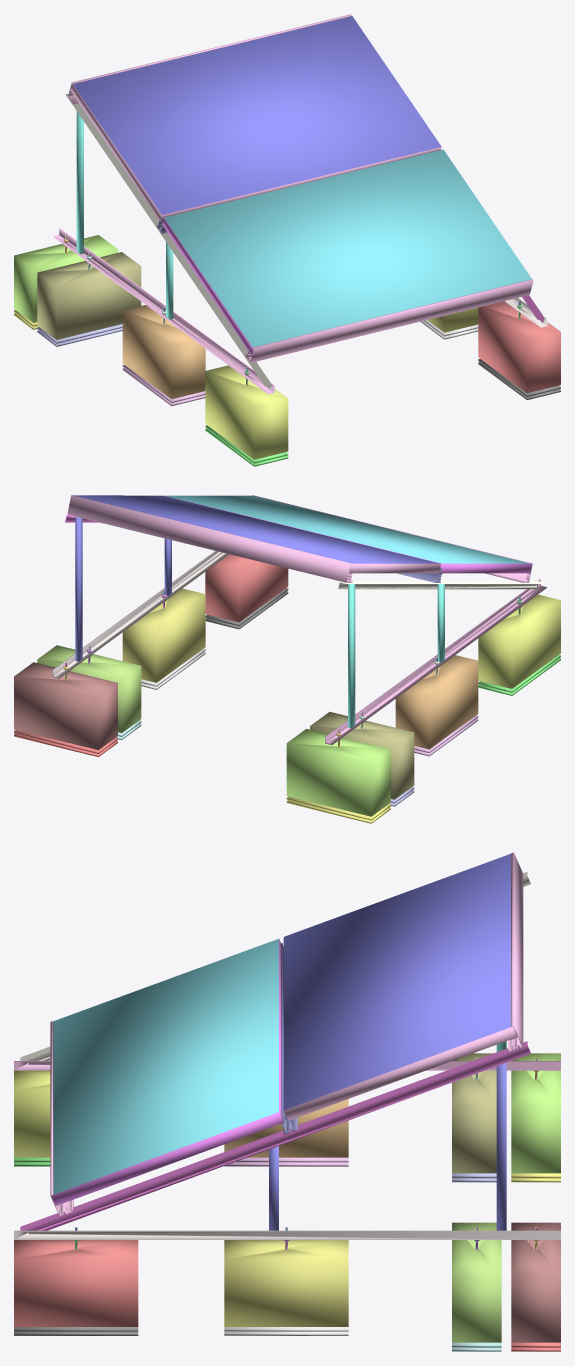
File: rooftop_solar.fbx
3 renders of one model, top to bottom at view 1: azimuth 30°, elevation 25°; view 2: azimuth 150°, elevation 25°; view 3: azimuth 270°, elevation 25°, orthographic. The views are drawn at different scales.
Parts seen in each view (by area): view 1: rooftop_solar; view 2: rooftop_solar; view 3: rooftop_solar.
Part boxes in pixels (x1,y1,x2,y2): rooftop_solar: (14, 14, 560, 466); rooftop_solar: (14, 495, 560, 823); rooftop_solar: (14, 852, 560, 1351).
Size of the model in its own units: 249 by 158 by 260.
